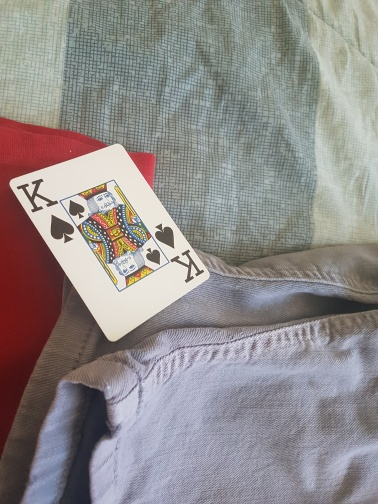king: (9, 143, 210, 340)
